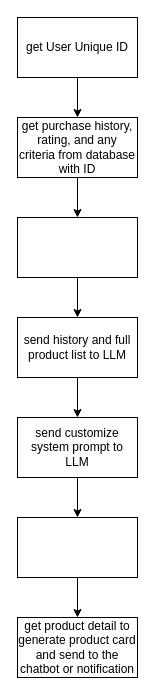
This 155x695 diagram has some shape labels left out. Each missing label, with the box of its shape:
get full product list with API: (16, 216, 138, 278)
LLM return recommended product details: (16, 516, 138, 578)
